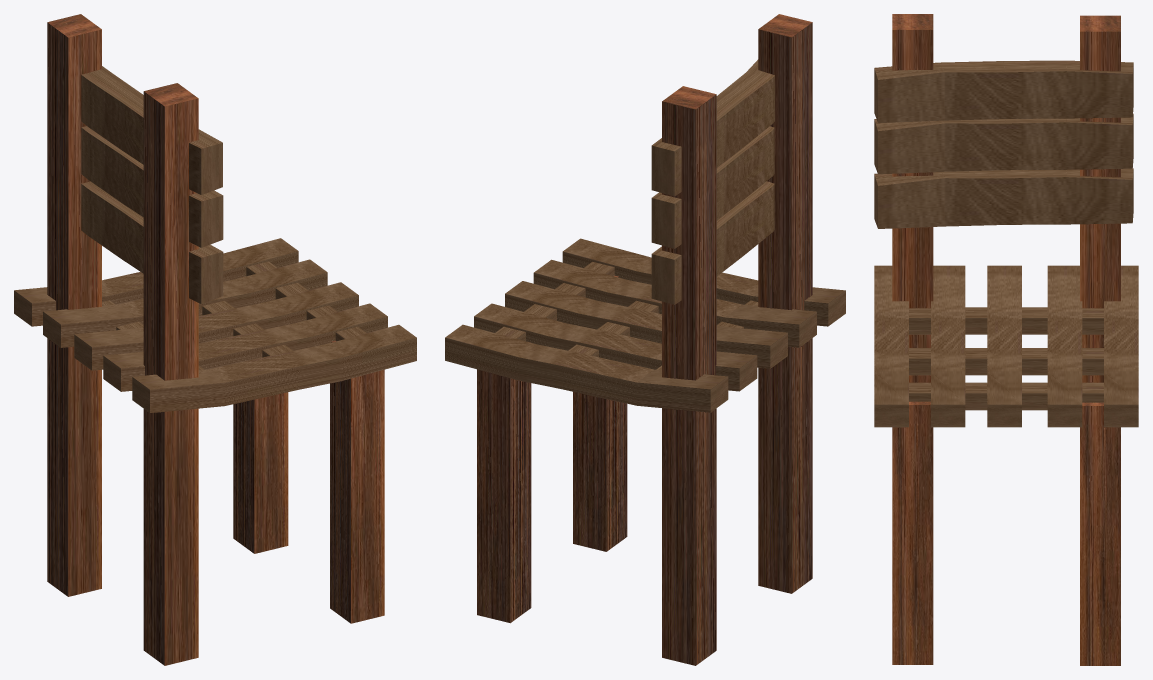
File: SimpleChair.glb
The picture shows the model from 3 angles, left to right: view 1: azimuth 30°, elevation 25°; view 2: azimuth 150°, elevation 25°; view 3: azimuth 270°, elevation 25°; orthographic projection. The views are drawn at different scales.
Visible parts, largest first — view 1: Chair Base.001, Cube, Cube.001, Chair Base, Cube.002, Cube.003; view 2: Chair Base.001, Cube.001, Cube, Chair Base, Cube.003, Cube.002; view 3: Chair Base, Chair Base.001, Cube.002, Cube.003, Cube.001, Cube.
Part boxes in pixels (bbox=[...]): Chair Base.001: bbox=[14, 238, 416, 412]; Cube: bbox=[143, 83, 198, 665]; Cube.001: bbox=[47, 14, 101, 596]; Chair Base: bbox=[81, 66, 223, 303]; Cube.002: bbox=[330, 340, 384, 623]; Cube.003: bbox=[233, 277, 288, 553]; Chair Base.001: bbox=[445, 238, 845, 412]; Cube.001: bbox=[662, 86, 716, 665]; Cube: bbox=[758, 14, 812, 593]; Chair Base: bbox=[651, 59, 774, 304]; Cube.003: bbox=[477, 369, 531, 623]; Cube.002: bbox=[573, 275, 627, 551]; Chair Base: bbox=[874, 60, 1133, 228]; Chair Base.001: bbox=[874, 265, 1138, 427]; Cube.002: bbox=[892, 401, 933, 664]; Cube.003: bbox=[1080, 402, 1120, 665]; Cube.001: bbox=[1080, 15, 1120, 382]; Cube: bbox=[892, 14, 933, 382].
Size of the model in its own units: 1.34 by 2.71 by 1.19.
Materials: 2 (2 with a texture image).
